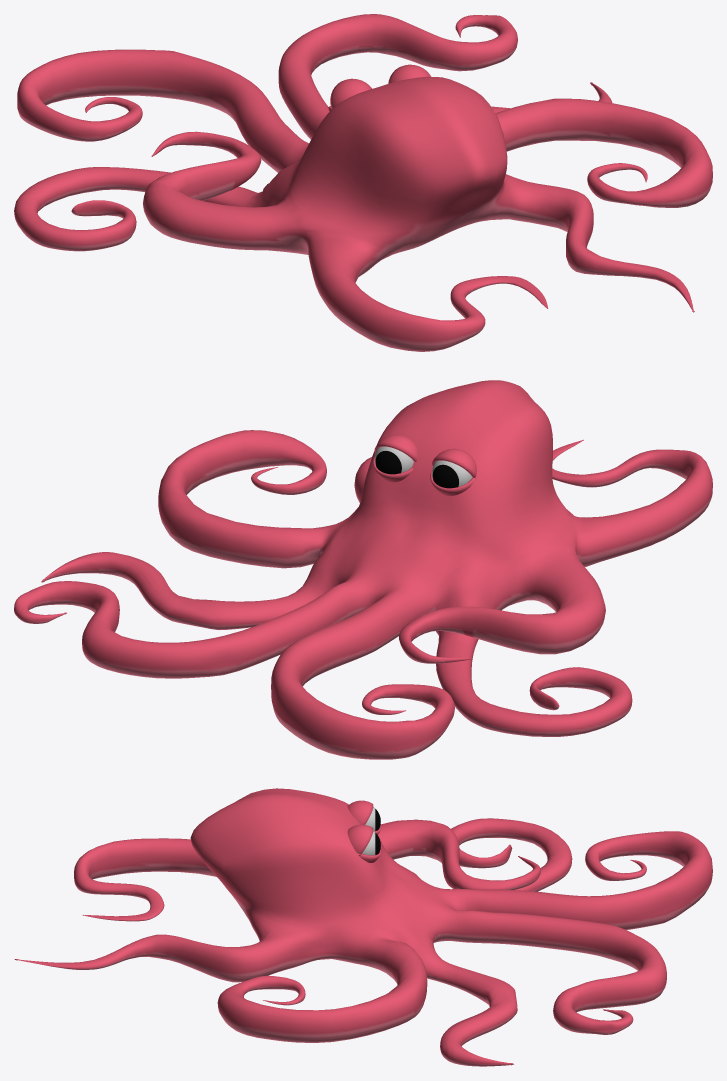
Rendered from Octopus .obj.
3 views of the same model, one above another, from view 1: azimuth 30°, elevation 25°; view 2: azimuth 150°, elevation 25°; view 3: azimuth 270°, elevation 25° (orthographic). The views are drawn at different scales.
Visible parts, largest first — view 1: Octopus_Cube.002; view 2: Octopus_Cube.002; view 3: Octopus_Cube.002.
Part boxes in pixels (left/top/right/bottom): Octopus_Cube.002: left=14, top=14, right=712, bottom=351; Octopus_Cube.002: left=14, top=380, right=712, bottom=759; Octopus_Cube.002: left=14, top=788, right=712, bottom=1066.
Size of the model in its own units: 3.58 by 1.06 by 4.4.
3 materials, 1 textured.
